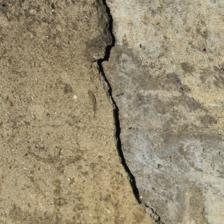Crack: (46, 1, 117, 220)
